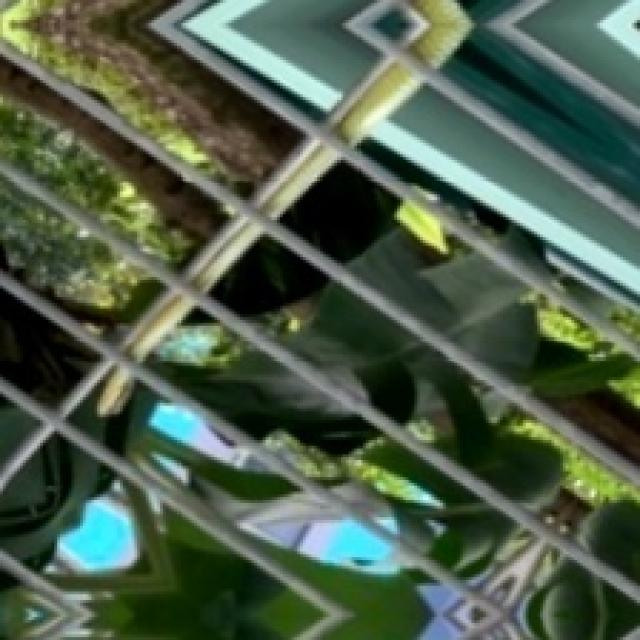paradise tree snake: (330, 59, 421, 145), (251, 139, 339, 218), (185, 215, 261, 292), (124, 290, 192, 360), (410, 0, 471, 68), (98, 370, 131, 416)
